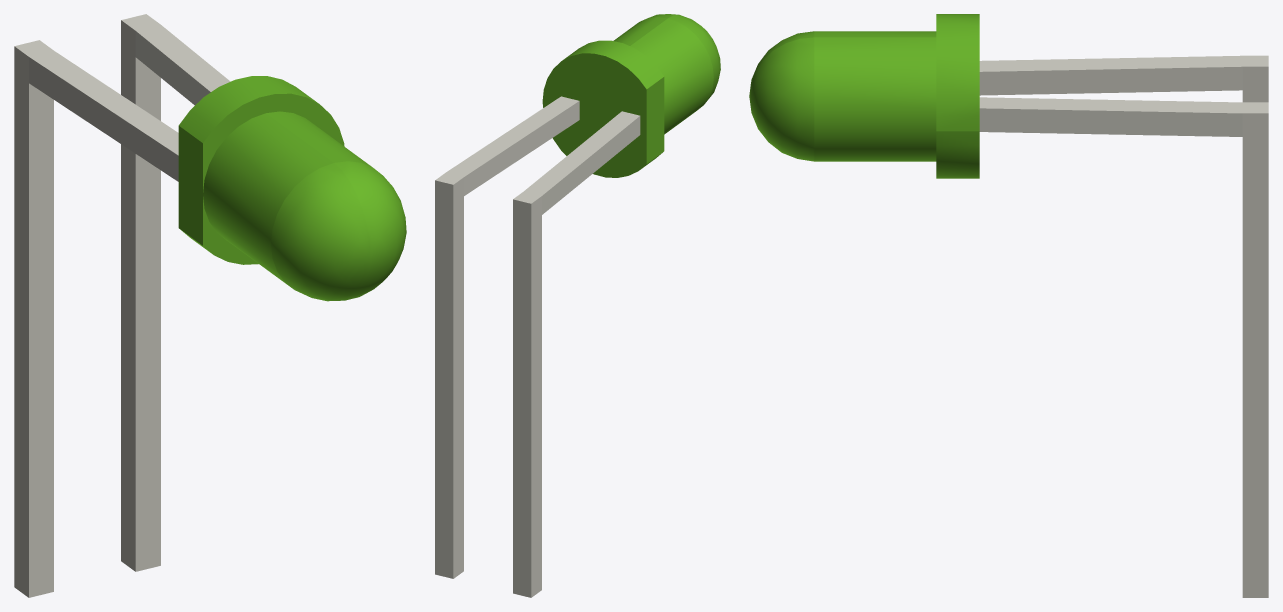
Rendered from kc-led_d3.0mm_horizontal_o6.35mm_z10.0mm.glb.
3 renders of one model, left to right at view 1: azimuth 30°, elevation 25°; view 2: azimuth 150°, elevation 25°; view 3: azimuth 270°, elevation 25°, orthographic. The views are drawn at different scales.
Visible parts, largest first — view 1: 0.6666666666666666_0.6666666666666666_0.5833333333333334_0.8, 0.16666666666666666_0.4166666666666667_0_0; view 2: 0.6666666666666666_0.6666666666666666_0.5833333333333334_0.8, 0.16666666666666666_0.4166666666666667_0_0; view 3: 0.6666666666666666_0.6666666666666666_0.5833333333333334_0.8, 0.16666666666666666_0.4166666666666667_0_0.
Boxes of the visible parts, box(x1,y1,x2,y2) form: 0.6666666666666666_0.6666666666666666_0.5833333333333334_0.8: box(14, 14, 230, 597); 0.16666666666666666_0.4166666666666667_0_0: box(178, 76, 406, 301); 0.6666666666666666_0.6666666666666666_0.5833333333333334_0.8: box(435, 96, 640, 597); 0.16666666666666666_0.4166666666666667_0_0: box(542, 14, 720, 177); 0.6666666666666666_0.6666666666666666_0.5833333333333334_0.8: box(979, 55, 1268, 597); 0.16666666666666666_0.4166666666666667_0_0: box(749, 14, 979, 178).
Bounding box in the file's own units: 0.347 × 1.39 × 1.19.
